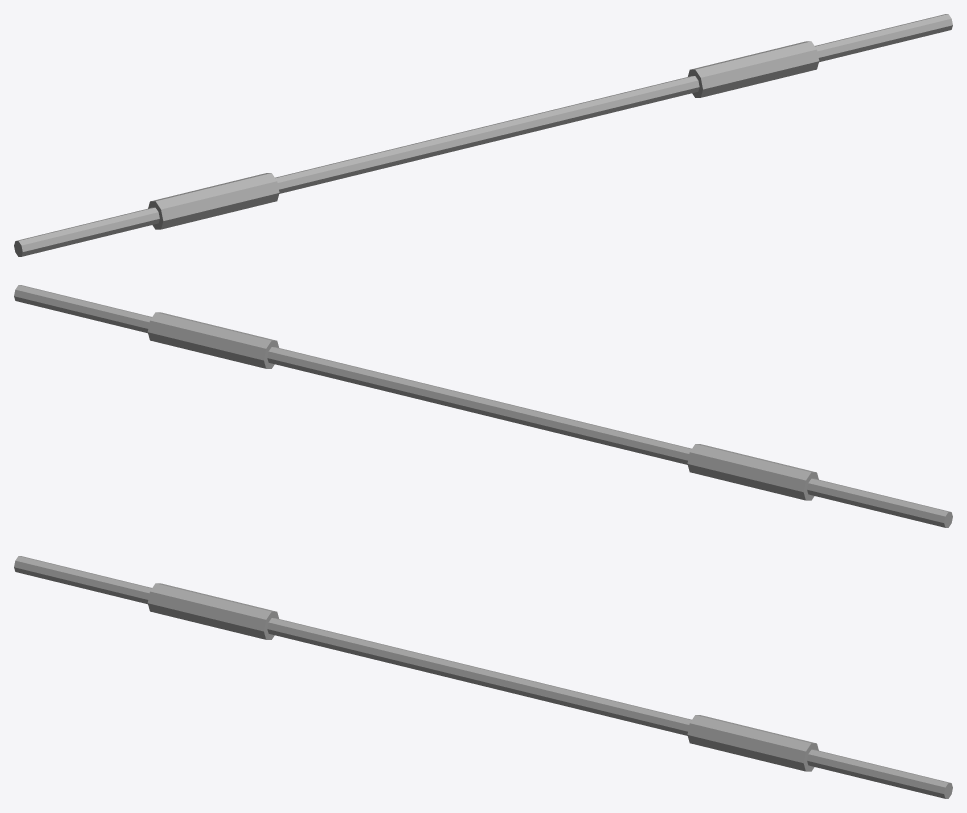
Rendered from barbell.glb.
3 views of the same model, one above another, from view 1: azimuth 30°, elevation 25°; view 2: azimuth 150°, elevation 25°; view 3: azimuth 330°, elevation 25° (orthographic).
Parts seen in each view (by area): view 1: Barbell_1; view 2: Barbell_1; view 3: Barbell_1.
Boxes of the visible parts, x1=… form: Barbell_1: x1=14, y1=14, x2=952, y2=256; Barbell_1: x1=14, y1=285, x2=952, y2=527; Barbell_1: x1=14, y1=556, x2=952, y2=798.
Size of the model in its own units: 1.88 by 0.0549 by 0.0549.
Materials: 1 (1 with a texture image).
